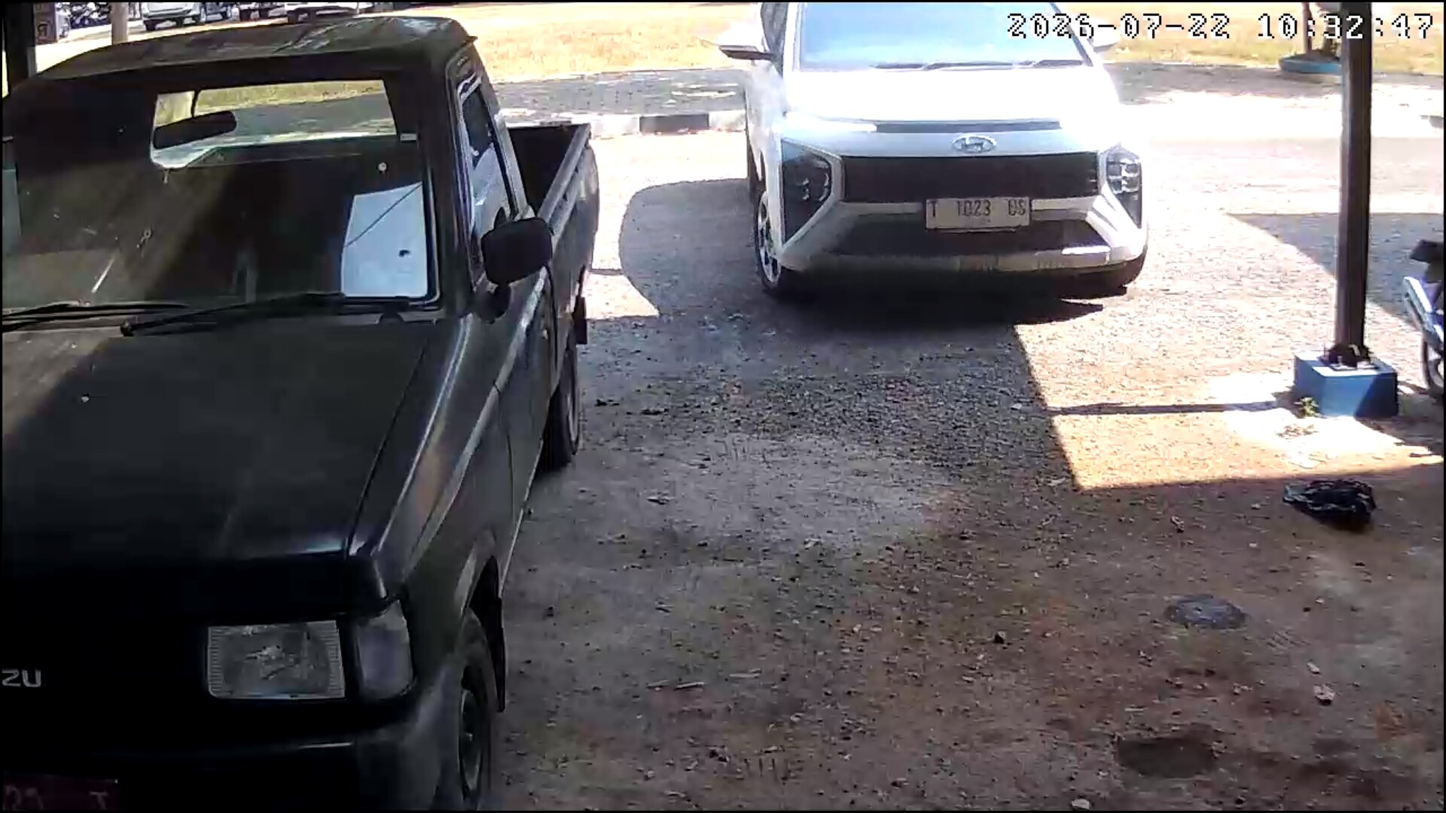plat nomor: (924, 196, 1031, 230)
